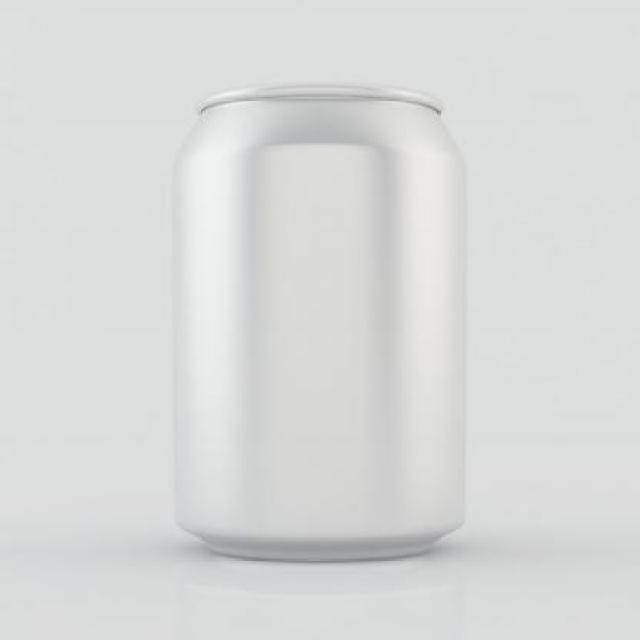metal: (173, 83, 468, 562)
